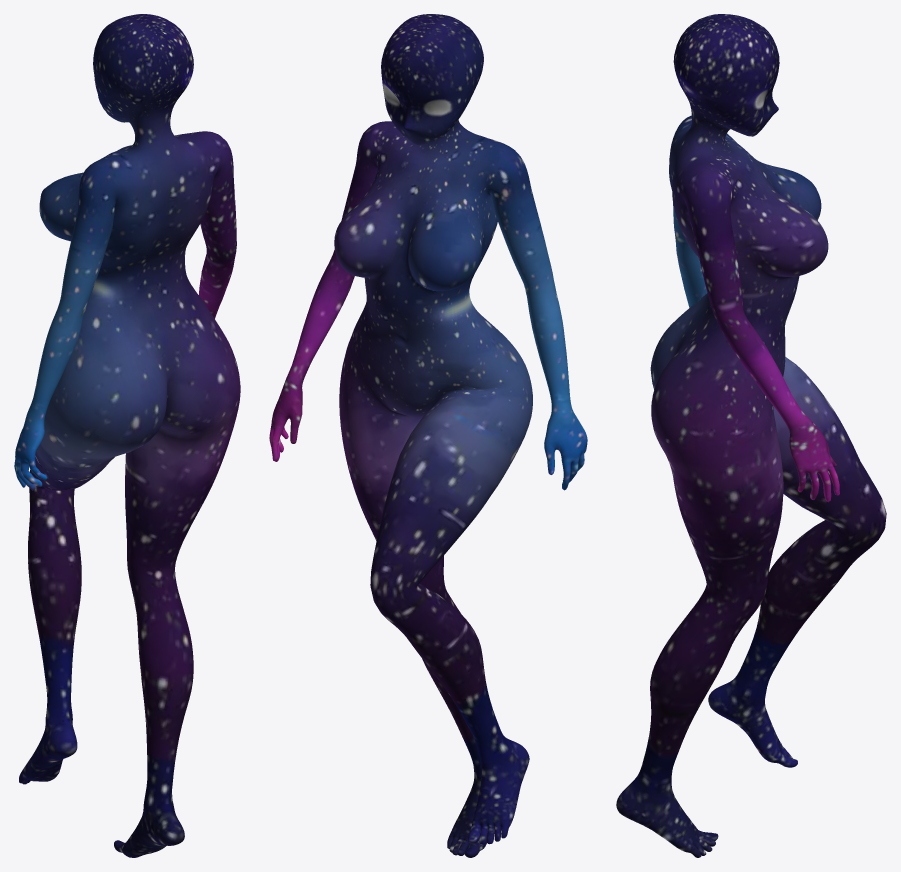
The model's file is missgalaxy.glb.
The picture shows the model from 3 angles, left to right: view 1: azimuth 30°, elevation 25°; view 2: azimuth 150°, elevation 25°; view 3: azimuth 270°, elevation 25°; orthographic projection. The views are drawn at different scales.
Parts seen in each view (by area): view 1: Object_82.001; view 2: Object_82.001; view 3: Object_82.001.
Part boxes in pixels (bbox=[...]): Object_82.001: bbox=[14, 14, 240, 857]; Object_82.001: bbox=[269, 14, 587, 857]; Object_82.001: bbox=[616, 14, 886, 857].
Size of the model in its own units: 0.8629 by 2.7 by 0.7871.
Materials: 1 (1 with a texture image).
